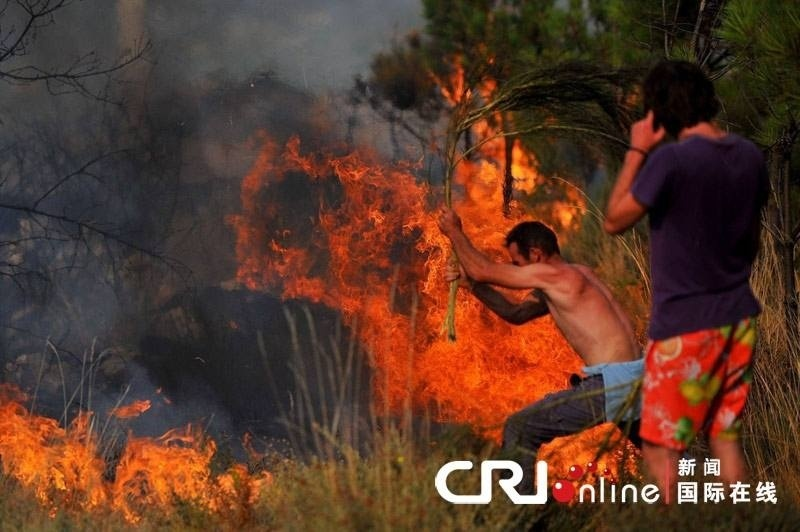fire: (233, 85, 611, 469), (3, 365, 275, 522)
